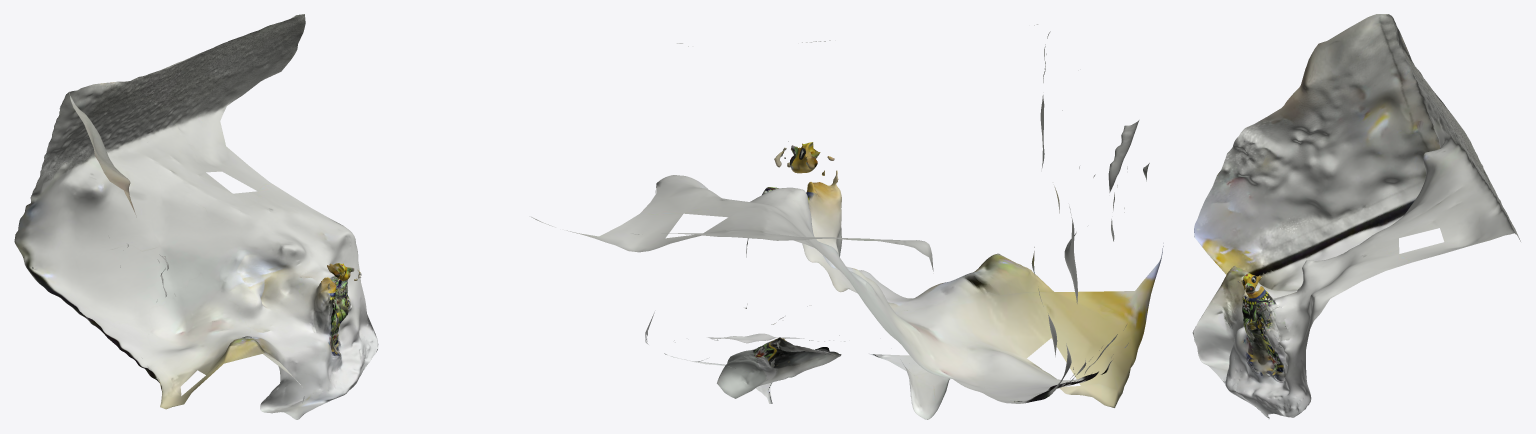
3 renders of one model, left to right at view 1: azimuth 30°, elevation 25°; view 2: azimuth 150°, elevation 25°; view 3: azimuth 270°, elevation 25°, orthographic. The views are drawn at different scales.
Bounding box in the file's own units: 1.12 × 1.05 × 1.03.
Materials: 1 (1 with a texture image).
